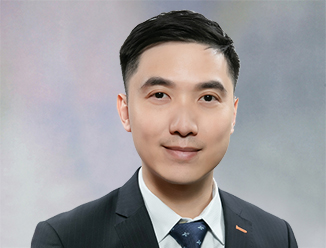Without Helmet: (104, 6, 248, 199)
